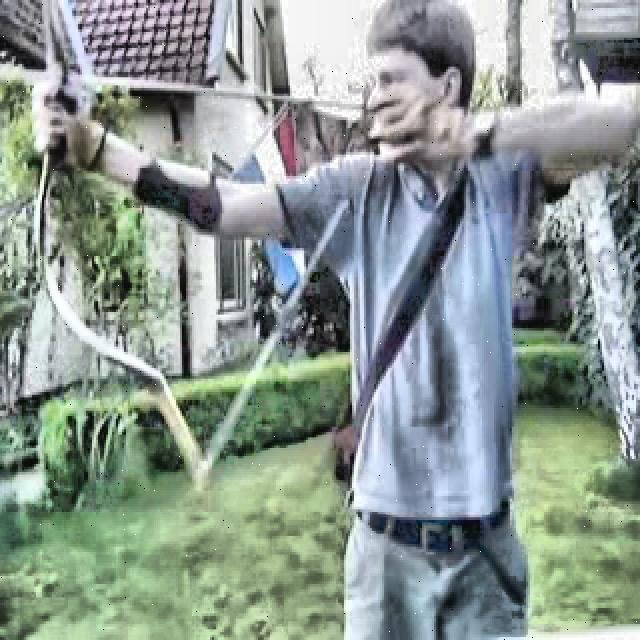P: (34, 8, 630, 632)
